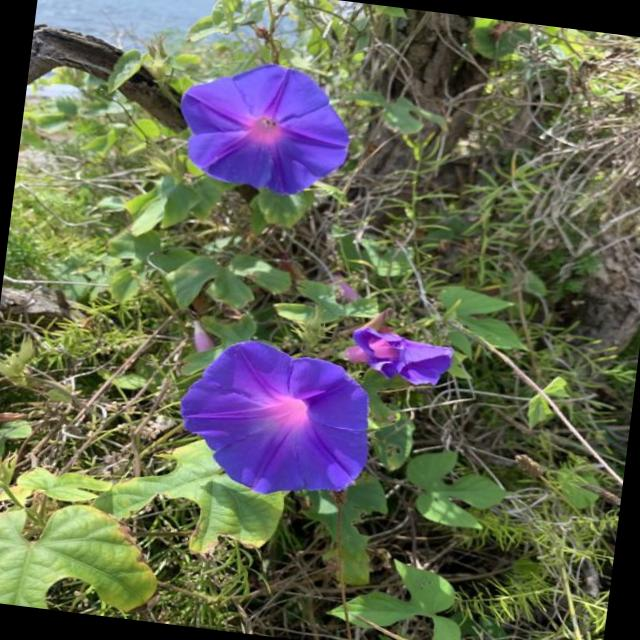ipomoea: (166, 330, 384, 509), (165, 50, 362, 205), (338, 321, 458, 393)
